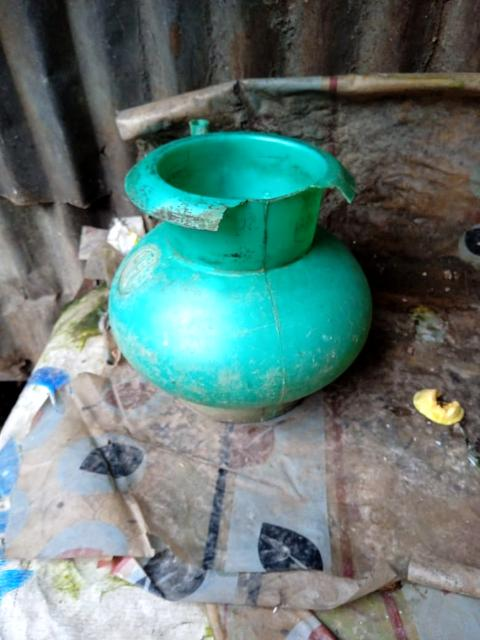hardplastic: (100, 141, 374, 407)
